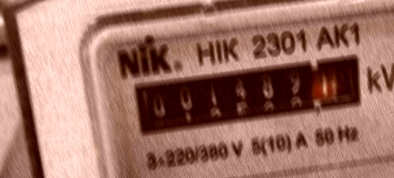0: (172, 82, 192, 109), (146, 90, 165, 117)
1: (201, 77, 219, 108), (312, 66, 329, 98)
4: (228, 73, 247, 102)
8: (253, 69, 274, 99)
9: (282, 67, 301, 94)
screen: (115, 38, 379, 152)
